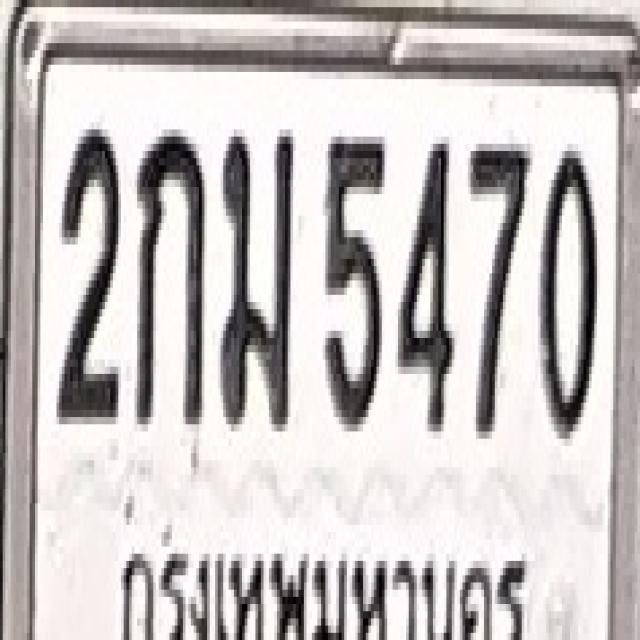-: (218, 122, 293, 432), (134, 126, 204, 428)
0: (538, 144, 597, 438)
2: (55, 122, 120, 417)
4: (396, 136, 454, 432)
5: (322, 130, 384, 432)
7: (468, 136, 530, 438)
BKK: (105, 510, 536, 640)
